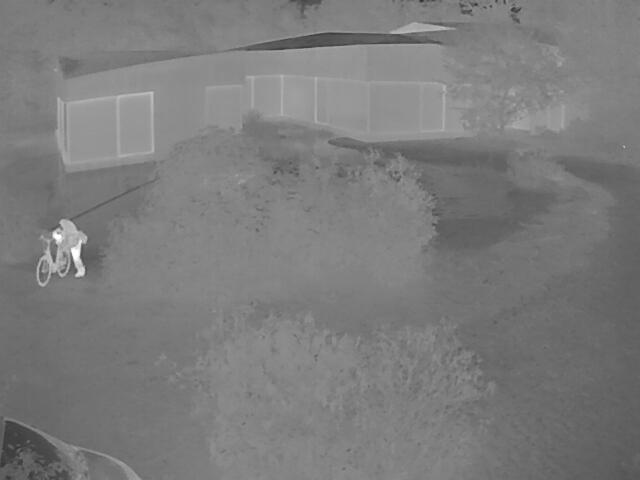person: (54, 218, 85, 277)
